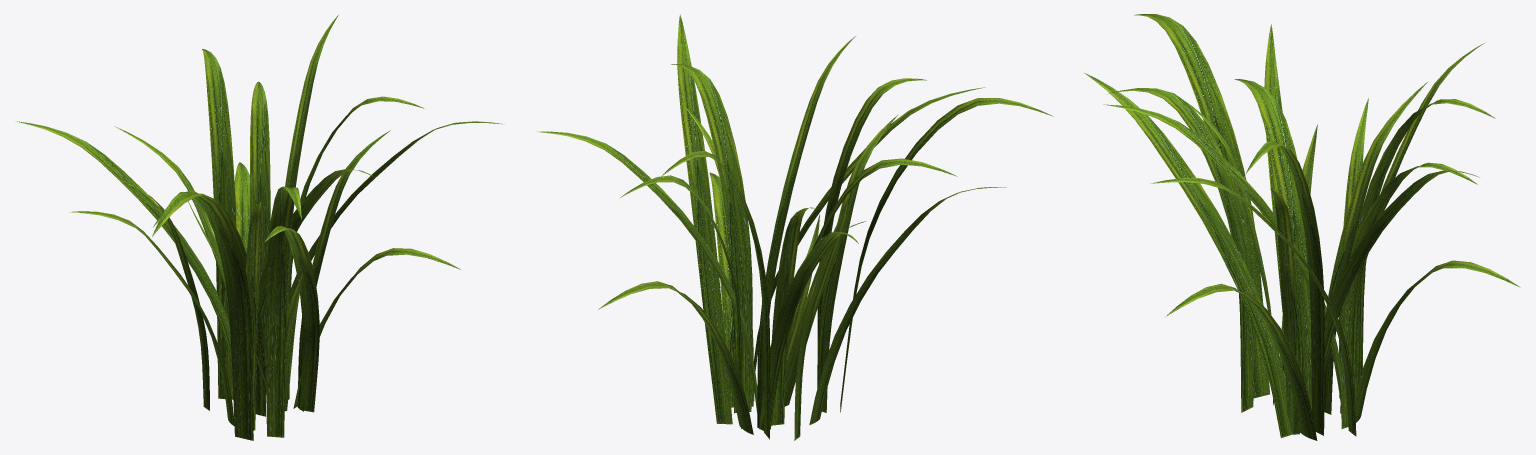
Rendered from grass.fbx.
3 renders of one model, left to right at view 1: azimuth 30°, elevation 25°; view 2: azimuth 150°, elevation 25°; view 3: azimuth 270°, elevation 25°, orthographic. The views are drawn at different scales.
Parts seen in each view (by area): view 1: Grass_20; view 2: Grass_20; view 3: Grass_20.
Part boxes in pixels (left/top/right/bottom): Grass_20: left=15, top=15, right=504, bottom=440; Grass_20: left=535, top=14, right=1053, bottom=440; Grass_20: left=1084, top=14, right=1520, bottom=440.
Size of the model in its own units: 0.2624 by 0.1992 by 0.244.
1 material, 1 textured.
